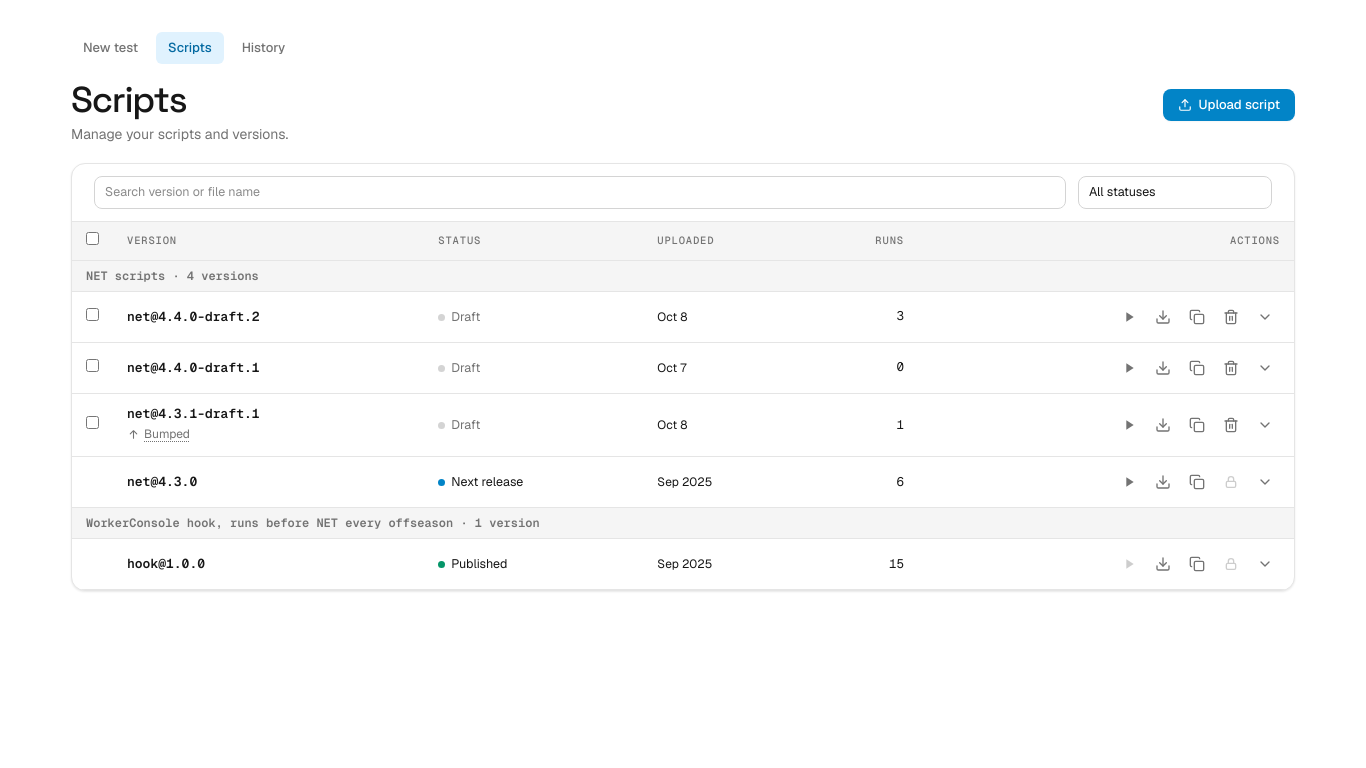
Test: LabScriptsView › filters by search and status
The image size is (1366, 768).
In the search field with test id "search": [580, 193] box [94,176,1066,209], type "akshay"
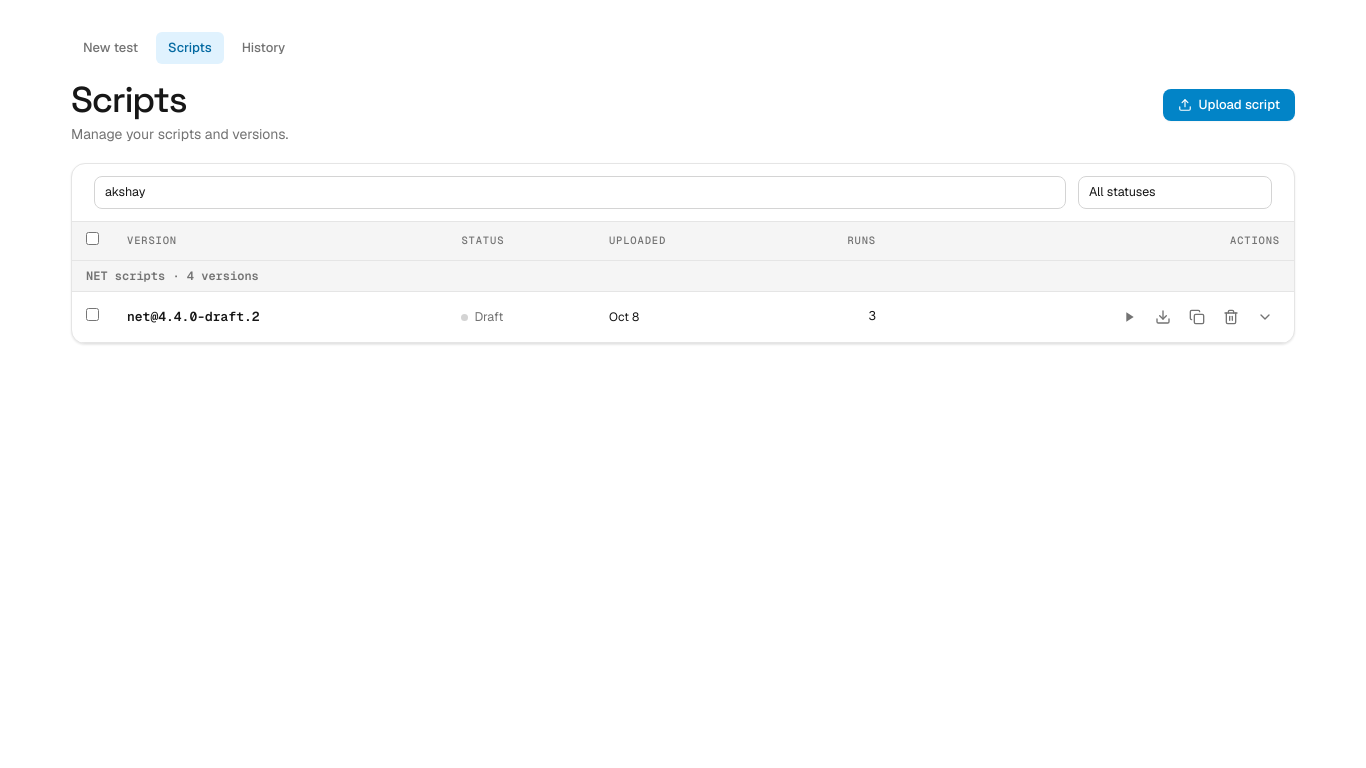
Clear the search field with test id "search": [580, 193] box [94,176,1066,209]
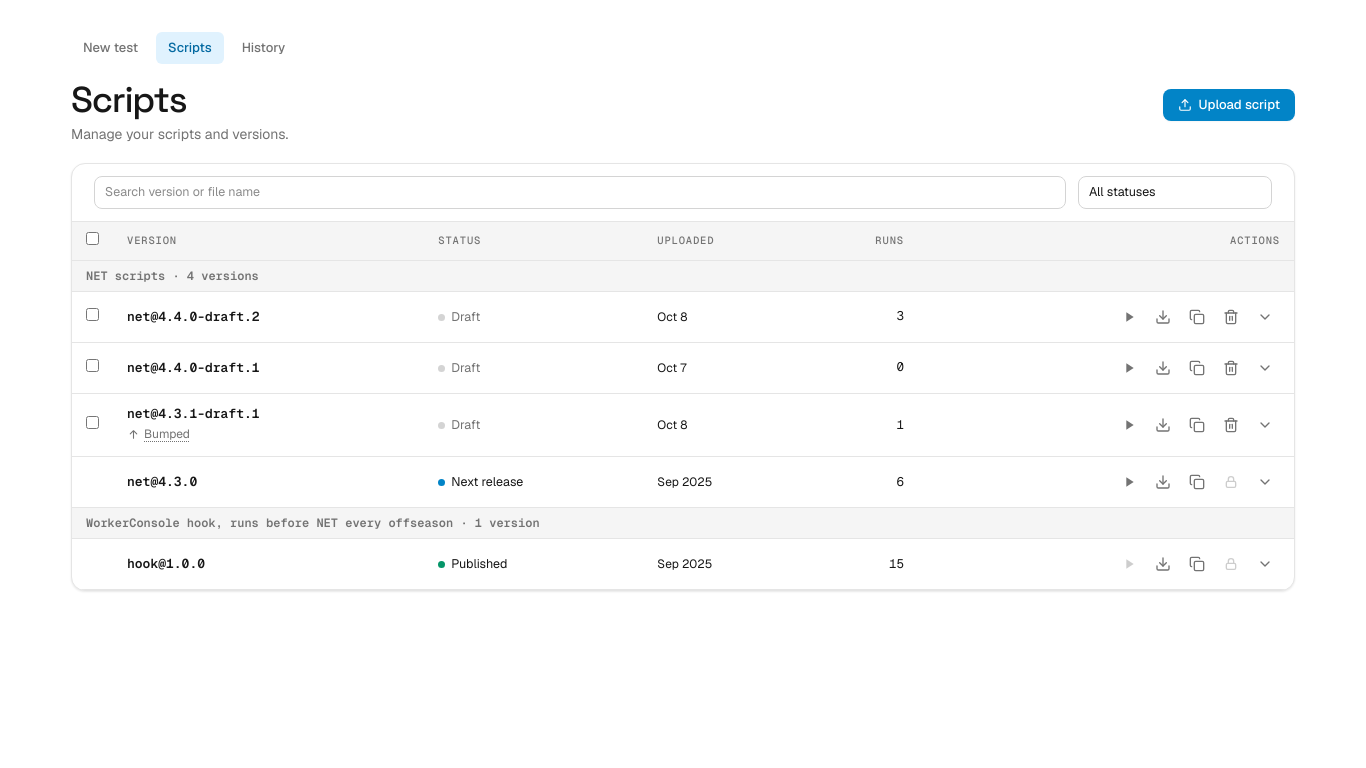
Select "Published and next release" in the dropdown with test id "status": [1175, 193] box [1078,176,1272,209]
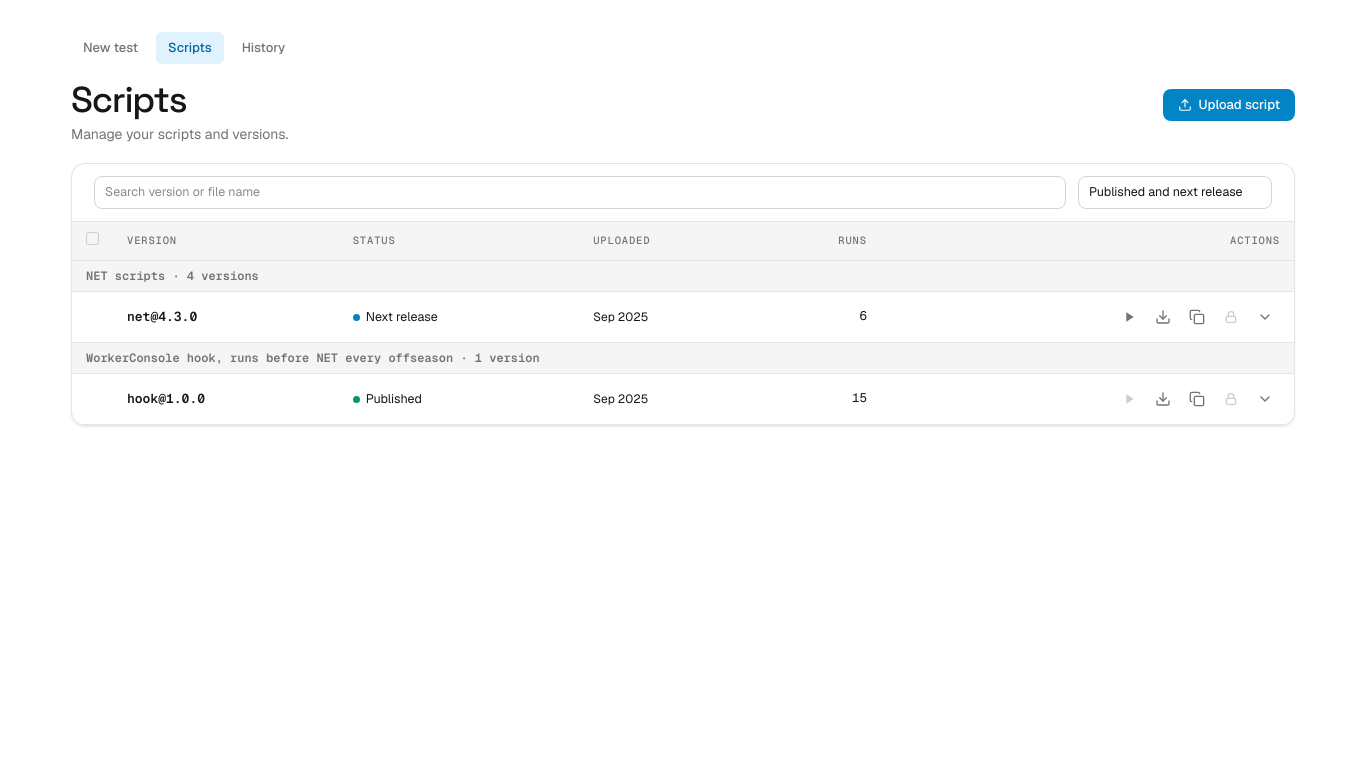
In the search field with test id "search": [580, 193] box [94,176,1066,209], type "nothing-matches"
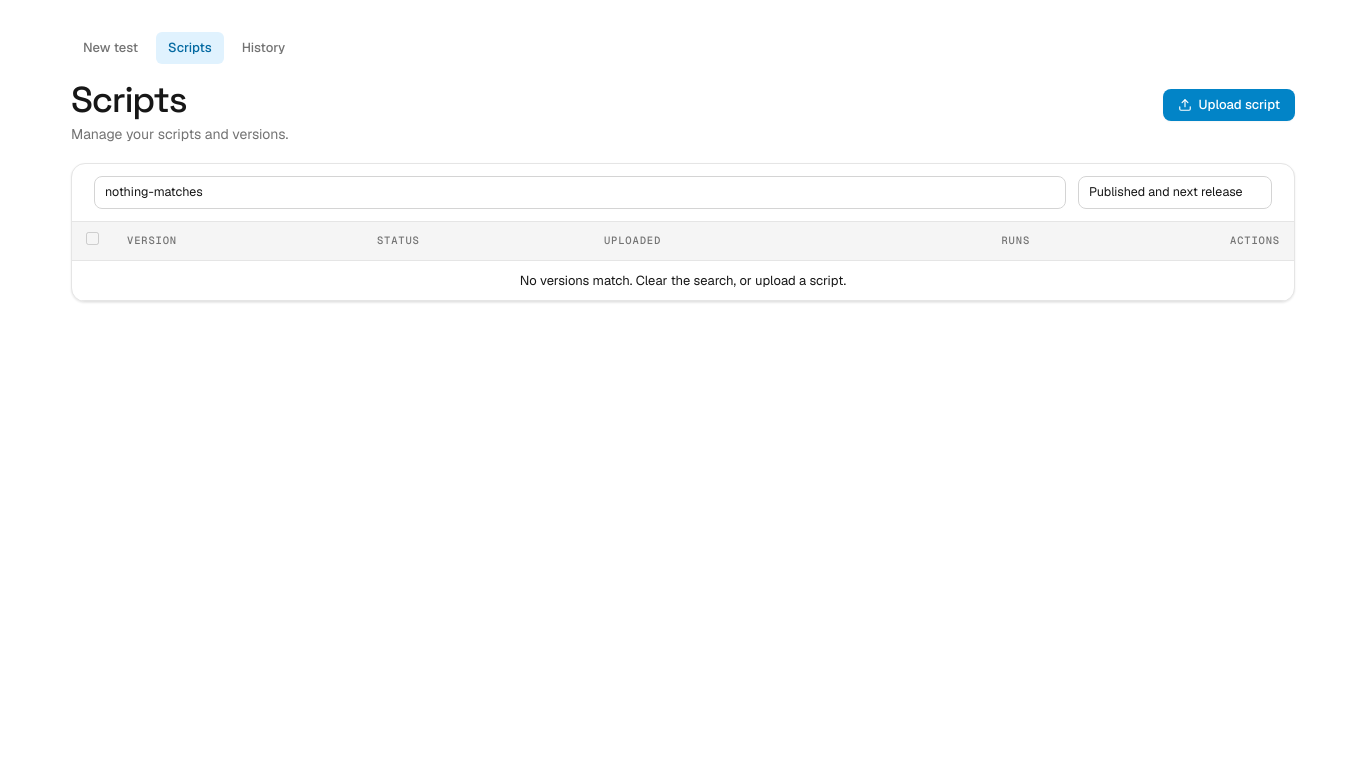
expect the text "No versions match." is shown: met, box [520,272,846,289]
